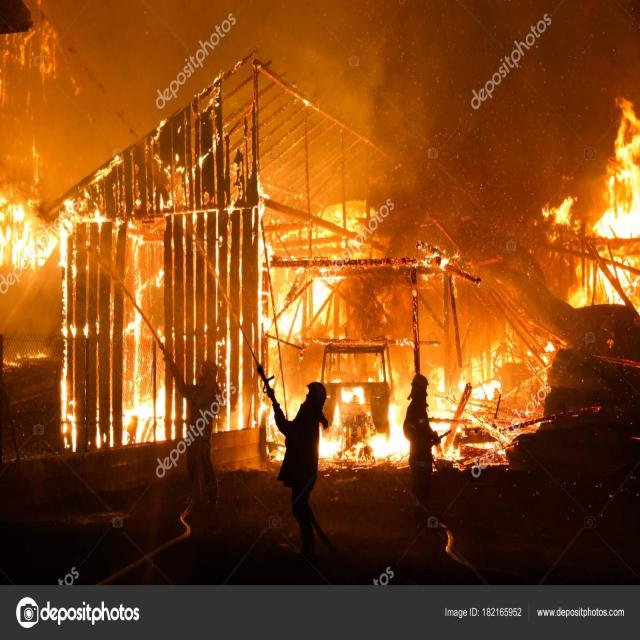Fire: (1, 106, 634, 473)
